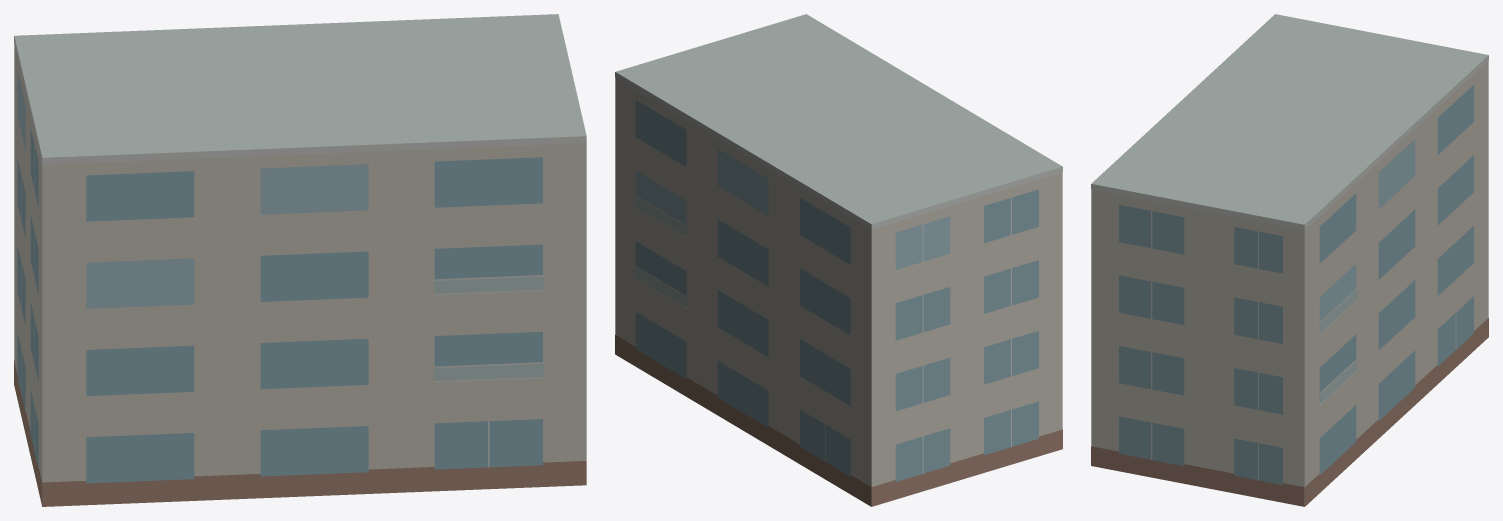
File: survey-upis-32711003.glb
The picture shows the model from 3 angles, left to right: view 1: azimuth 30°, elevation 25°; view 2: azimuth 150°, elevation 25°; view 3: azimuth 270°, elevation 25°; orthographic projection. The views are drawn at different scales.
Visible parts, largest first — view 1: survey-upis-32711003.tmp; view 2: survey-upis-32711003.tmp; view 3: survey-upis-32711003.tmp.
Boxes of the visible parts, box(x1,y1,x2,y2) form: survey-upis-32711003.tmp: box(14, 14, 586, 506); survey-upis-32711003.tmp: box(615, 14, 1062, 506); survey-upis-32711003.tmp: box(1091, 14, 1488, 506).
Size of the model in its own units: 19.88 by 12.4 by 15.85.
